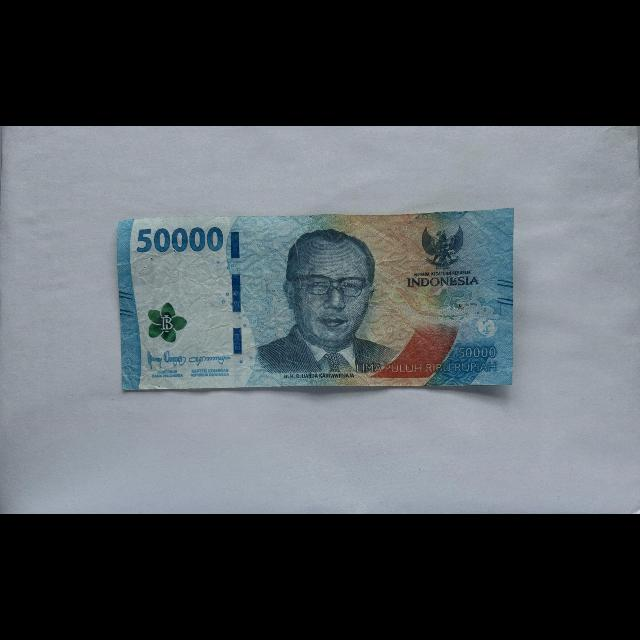Palsu-50k: (116, 207, 517, 392)
Tinta-Palsu-50k: (149, 303, 188, 344)
